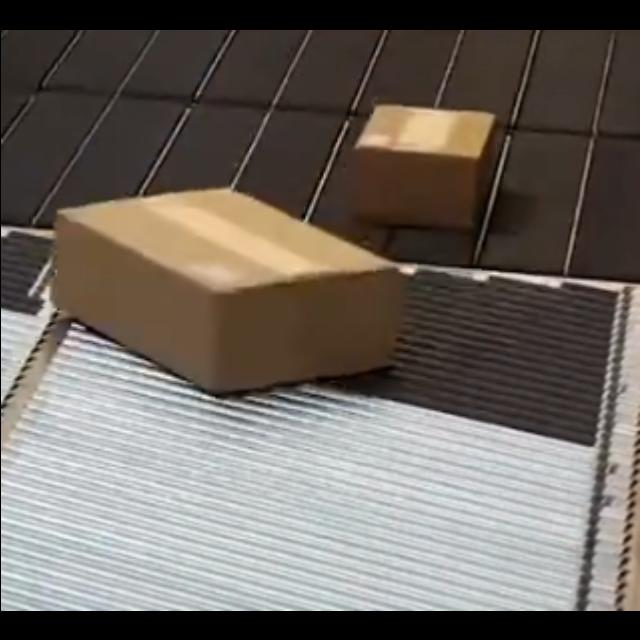box: (51, 188, 402, 394), (357, 106, 495, 224)
